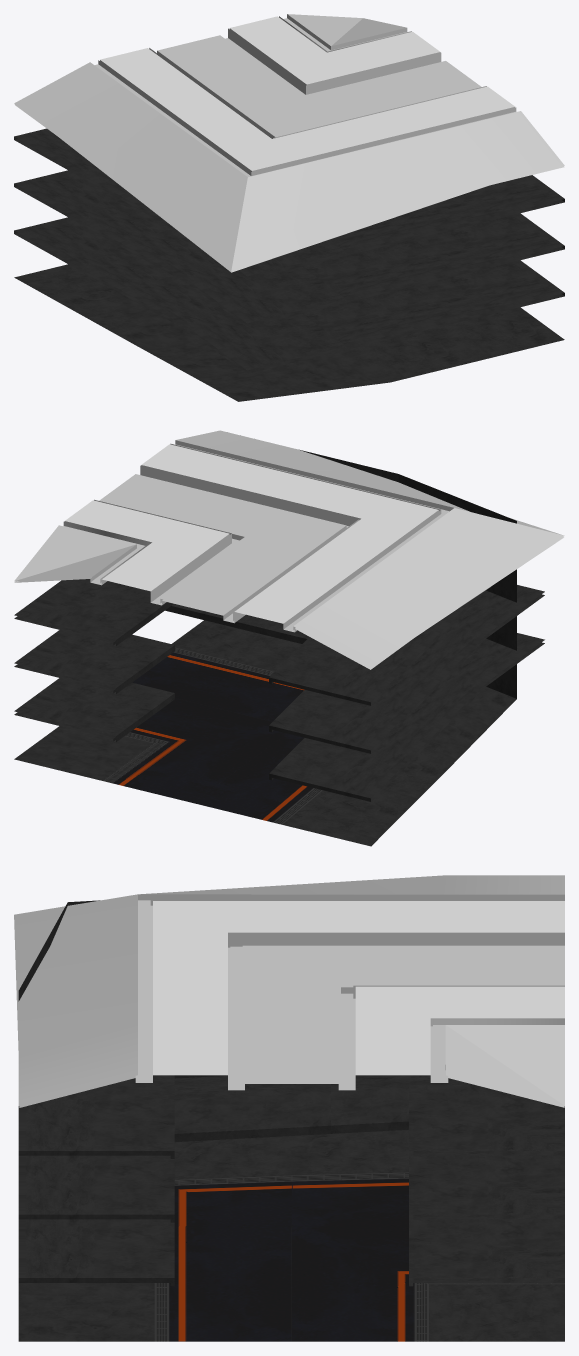
The model's file is meshset_cell_corner.fbx.
3 views of the same model, one above another, from view 1: azimuth 30°, elevation 25°; view 2: azimuth 150°, elevation 25°; view 3: azimuth 270°, elevation 25° (orthographic). The views are drawn at different scales.
Parts seen in each view (by area): view 1: cell_corner_set; view 2: cell_corner_set; view 3: cell_corner_set.
Part boxes in pixels (x1,y1,x2,y2): cell_corner_set: (14,14,564,401); cell_corner_set: (14,430,564,846); cell_corner_set: (14,875,564,1341).
Size of the model in its own units: 2100 by 1132 by 2118.
